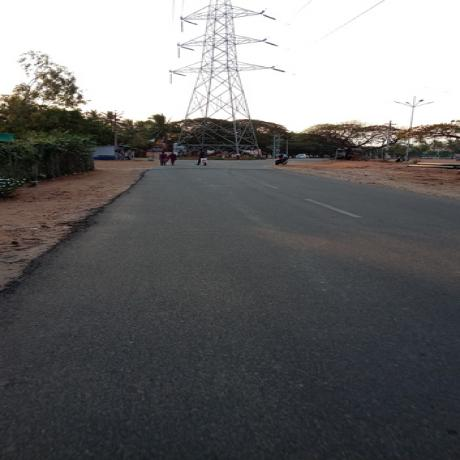Speed Bump: (141, 166, 280, 171)
